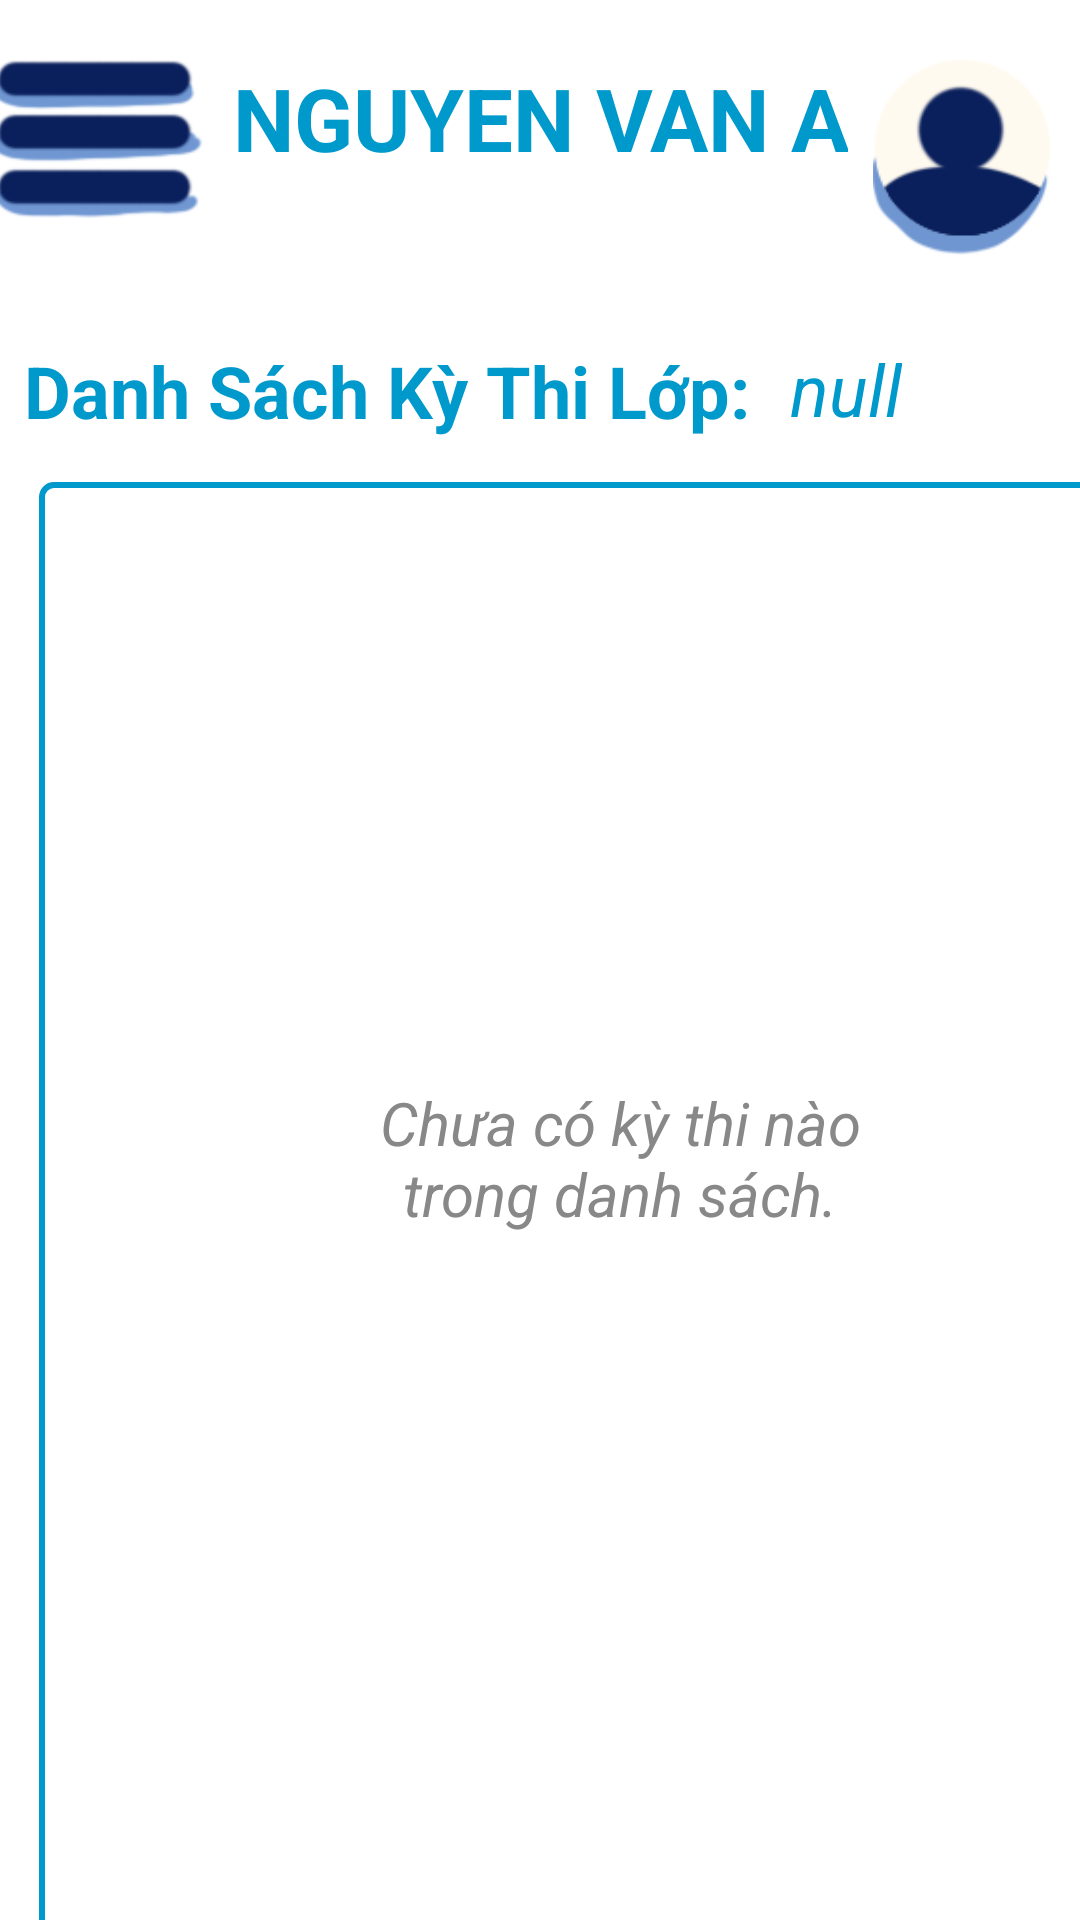

Point at icon controls on the screen. Image size 1080x1920, points as (x,y).
menu: (101,139)
user: (960,169)
